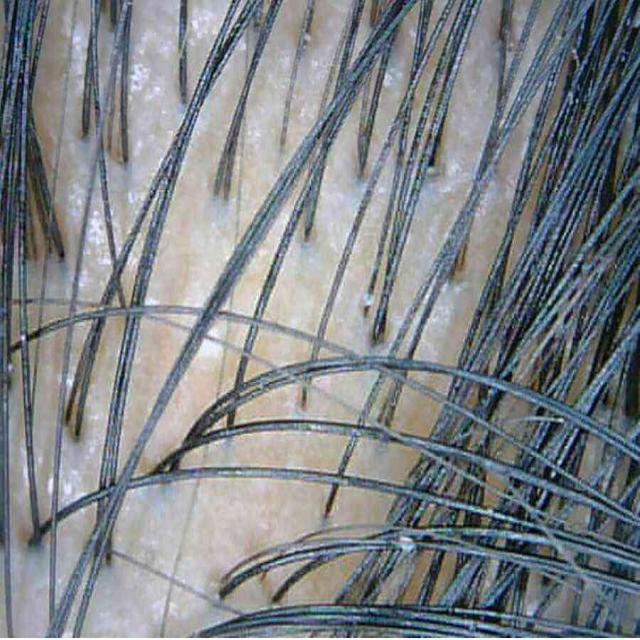o: (68, 0, 90, 120), (89, 199, 111, 264), (59, 171, 88, 220), (435, 158, 462, 194), (60, 464, 84, 503), (384, 55, 408, 93), (129, 54, 151, 93)
